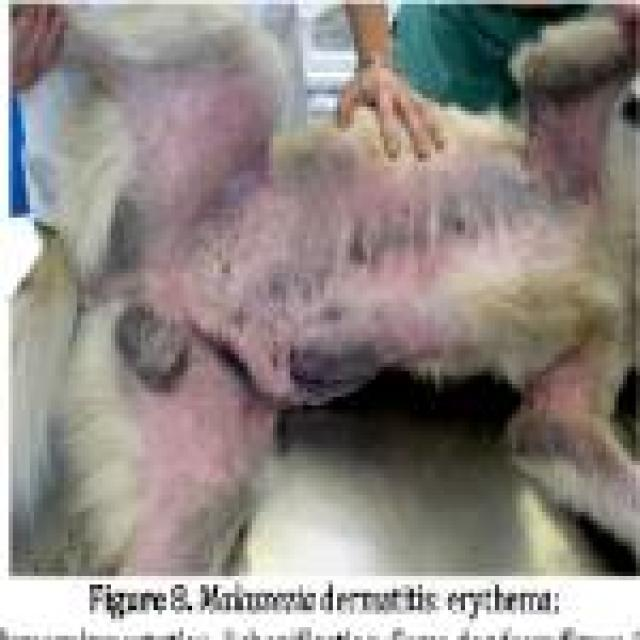fungal infection: (132, 59, 284, 265), (354, 167, 563, 265), (207, 249, 356, 333), (142, 397, 255, 488), (294, 147, 365, 275), (524, 376, 610, 464), (544, 90, 602, 212), (280, 331, 379, 398), (125, 492, 182, 581), (366, 298, 438, 354), (102, 197, 143, 277), (248, 325, 290, 388)
